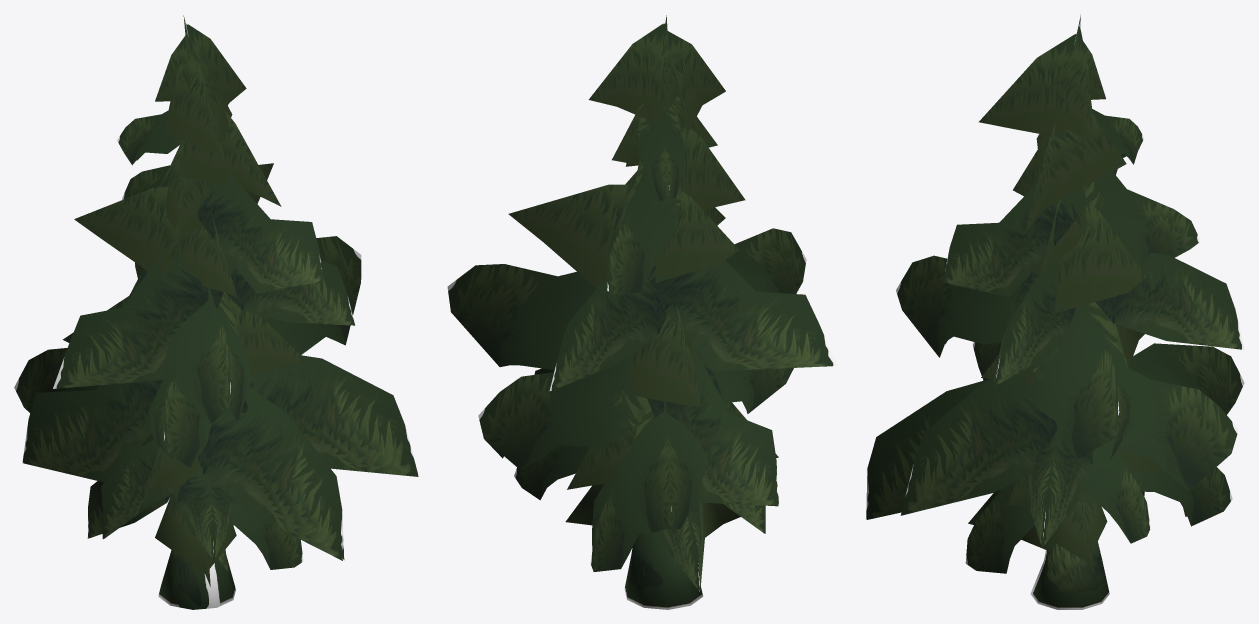
File: Xmax_Tree.glb
The picture shows the model from 3 angles, left to right: view 1: azimuth 30°, elevation 25°; view 2: azimuth 150°, elevation 25°; view 3: azimuth 270°, elevation 25°; orthographic projection.
Visible parts, largest first — view 1: Xmax_Tree; view 2: Xmax_Tree; view 3: Xmax_Tree.
Boxes of the visible parts, <box> form: Xmax_Tree: <box>14,15,418,609</box>; Xmax_Tree: <box>447,15,837,609</box>; Xmax_Tree: <box>866,14,1244,609</box>.
Size of the model in its own units: 18.74 by 29.81 by 17.74.
Materials: 1 (1 with a texture image).
